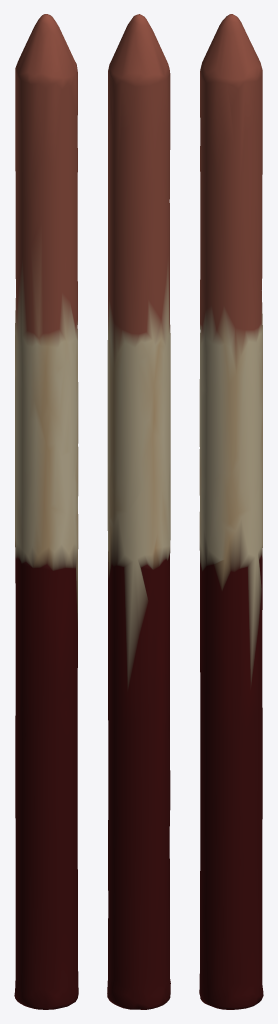
Rendered from gen3d-wand-lod1.glb.
3 views of the same model, side by side, from view 1: azimuth 90°, elevation 25°; view 2: azimuth 210°, elevation 25°; view 3: azimuth 270°, elevation 25° (orthographic).
Visible parts, largest first — view 1: part_0; view 2: part_0; view 3: part_0.
Part boxes in pixels (<box>): part_0: <box>14,14,78,1009</box>; part_0: <box>107,14,170,1009</box>; part_0: <box>199,14,263,1009</box>.
Bounding box in the file's own units: 0.0588 × 1 × 0.0592.
